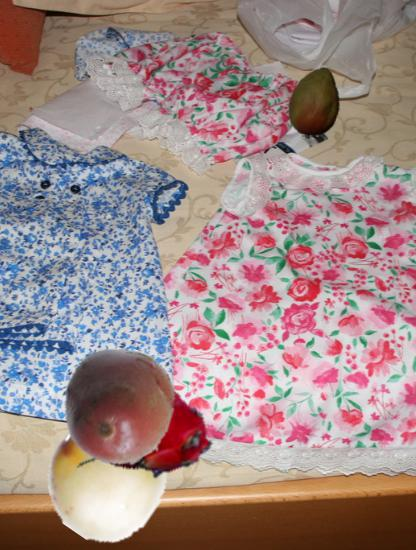Papaya: (278, 67, 351, 140)
Pepino: (42, 410, 173, 541)
Pitahaya: (76, 362, 216, 502)
Potato: (59, 347, 178, 466)
